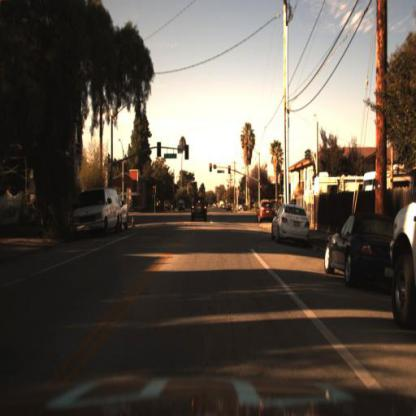car: (325, 213, 404, 288), (71, 187, 122, 234), (270, 202, 313, 244), (181, 185, 206, 218), (256, 196, 277, 227), (257, 198, 278, 227), (123, 185, 133, 231), (190, 199, 210, 221)
trafficLight-Red: (276, 163, 288, 192), (150, 184, 158, 198), (255, 177, 263, 191), (226, 163, 233, 176), (210, 161, 215, 174)
